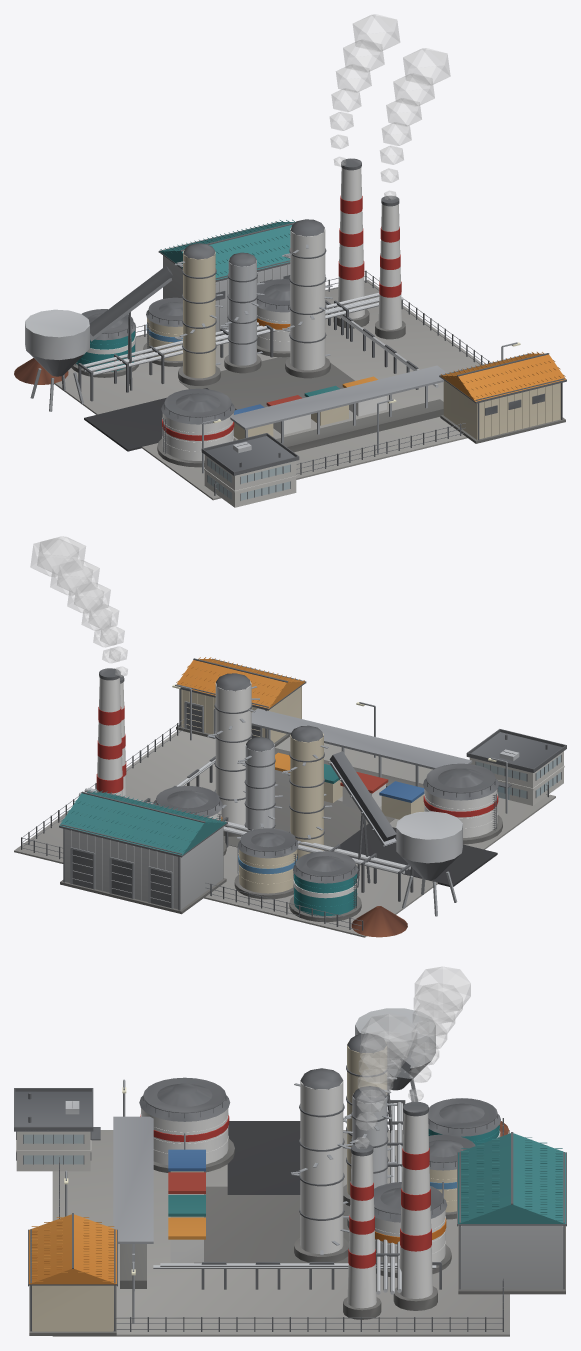
The model's file is Refinery_P2.fbx.
3 renders of one model, top to bottom at view 1: azimuth 30°, elevation 25°; view 2: azimuth 150°, elevation 25°; view 3: azimuth 270°, elevation 25°, orthographic. The views are drawn at different scales.
Parts seen in each view (by area): view 1: Refinery.Pad, Refinery.Shed, Refinery.Bay, Refinery.Col2, Refinery.Office, Refinery.Hall, Refinery.Col0, Refinery.Tank0, Refinery.Smoke1, Refinery.Smoke0, Refinery.Intake, Refinery.Stack0 (+11 smaller); view 2: Refinery.Pad, Refinery.Hall, Refinery.Shed, Refinery.Office, Refinery.Col2, Refinery.Tank0, Refinery.Smoke0, Refinery.Tank1, Refinery.Bay, Refinery.Col0, Refinery.Intake, Refinery.Tank2 (+10 smaller); view 3: Refinery.Pad, Refinery.Hall, Refinery.Shed, Refinery.Col2, Refinery.Office, Refinery.Tank0, Refinery.Stack0, Refinery.Bay, Refinery.Stack1, Refinery.Smoke1, Refinery.Smoke0, Refinery.Utils (+10 smaller).
Part boxes in pixels (x1,y1,x2,y2): Refinery.Pad: (54,279,483,500); Refinery.Shed: (439,352,566,443); Refinery.Bay: (230,365,462,452); Refinery.Col2: (282,219,332,378); Refinery.Office: (201,433,299,507); Refinery.Hall: (158,219,295,336); Refinery.Col0: (175,243,223,385); Refinery.Tank0: (157,388,235,467); Refinery.Smoke1: (380,48,450,200); Refinery.Smoke0: (330,14,399,166); Refinery.Intake: (25,309,89,411); Refinery.Stack0: (333,158,369,328); Refinery.Pad: (14,730,555,937); Refinery.Hall: (59,790,227,914); Refinery.Shed: (176,657,306,746); Refinery.Office: (466,729,566,805); Refinery.Col2: (207,673,259,836); Refinery.Tank0: (423,763,502,844); Refinery.Smoke0: (37,536,127,676); Refinery.Tank1: (289,851,361,921); Refinery.Bay: (251,708,472,787); Refinery.Col0: (282,725,332,858); Refinery.Intake: (396,811,462,916); Refinery.Tank2: (234,828,298,899); Refinery.Pad: (52,1121,509,1336); Refinery.Hall: (457,1132,566,1294); Refinery.Shed: (28,1213,117,1335); Refinery.Col2: (290,1068,353,1262); Refinery.Office: (14,1088,100,1171); Refinery.Tank0: (139,1077,234,1172); Refinery.Stack0: (393,1101,437,1310); Refinery.Bay: (113,1116,153,1290); Refinery.Stack1: (343,1143,381,1319); Refinery.Smoke1: (355,1014,416,1148); Refinery.Smoke0: (408,966,470,1101); Refinery.Utils: (168,1149,205,1262).
Size of the model in its own units: 8771 by 5886 by 8223.
